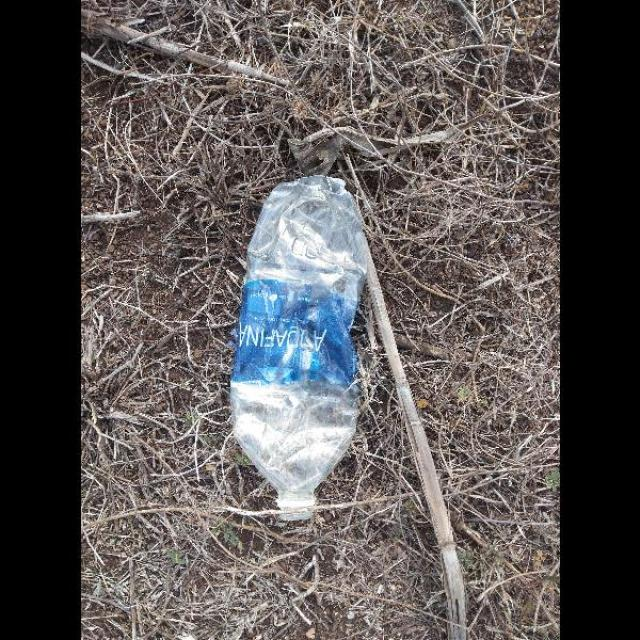plastic_waste: (202, 157, 390, 559)
